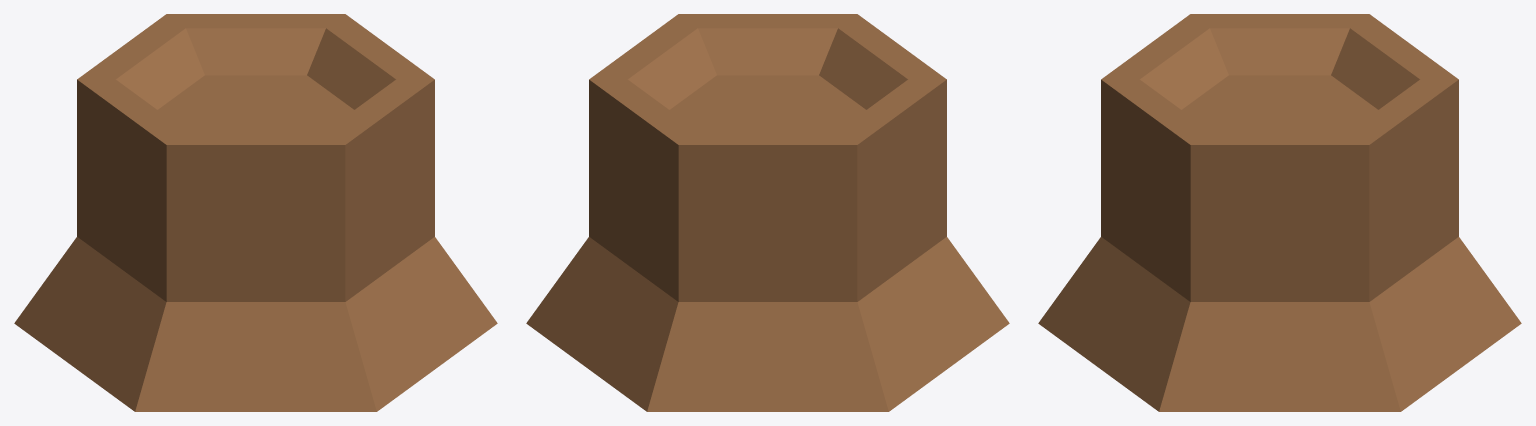
Rendered from stump-1.glb.
3 renders of one model, left to right at view 1: azimuth 30°, elevation 25°; view 2: azimuth 150°, elevation 25°; view 3: azimuth 270°, elevation 25°, orthographic.
Visible parts, largest first — view 1: stump_round; view 2: stump_round; view 3: stump_round.
Part boxes in pixels (x1,y1,x2,y2): stump_round: [14, 14, 497, 411]; stump_round: [526, 14, 1009, 411]; stump_round: [1038, 14, 1521, 411].
Size of the model in its own units: 0.778 by 0.5 by 0.8983.
